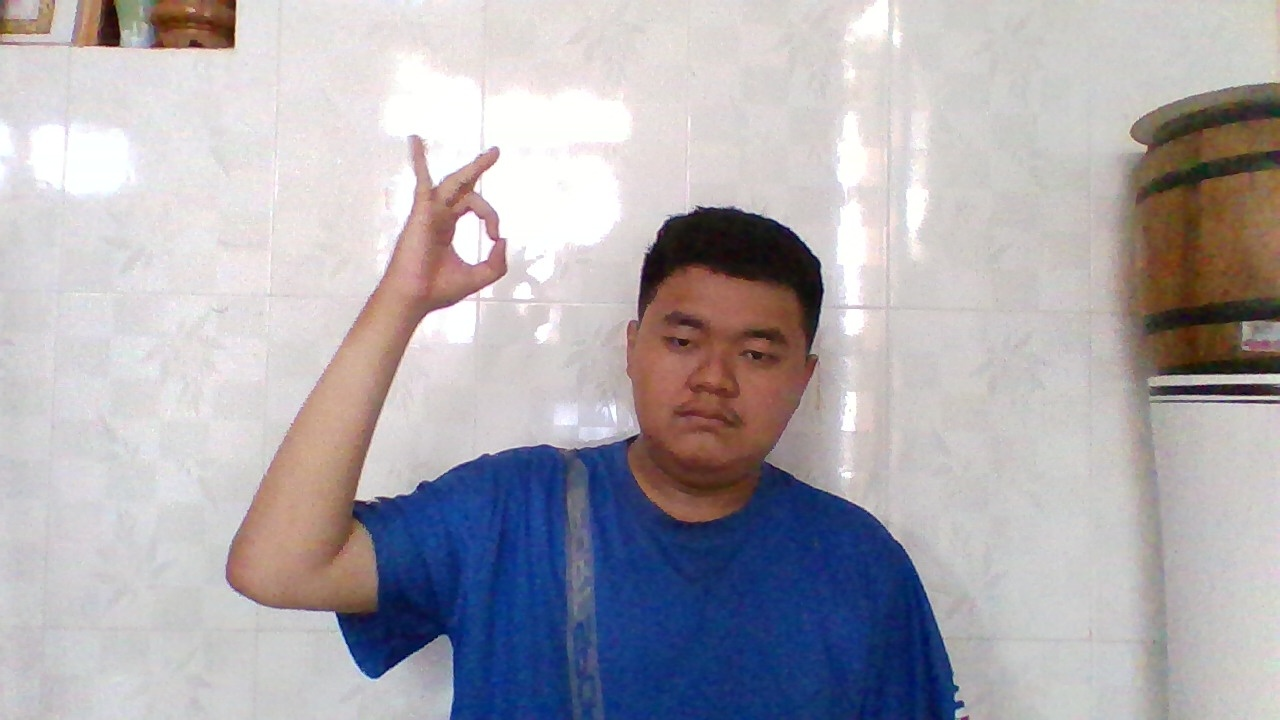H: (395, 125, 517, 316)
